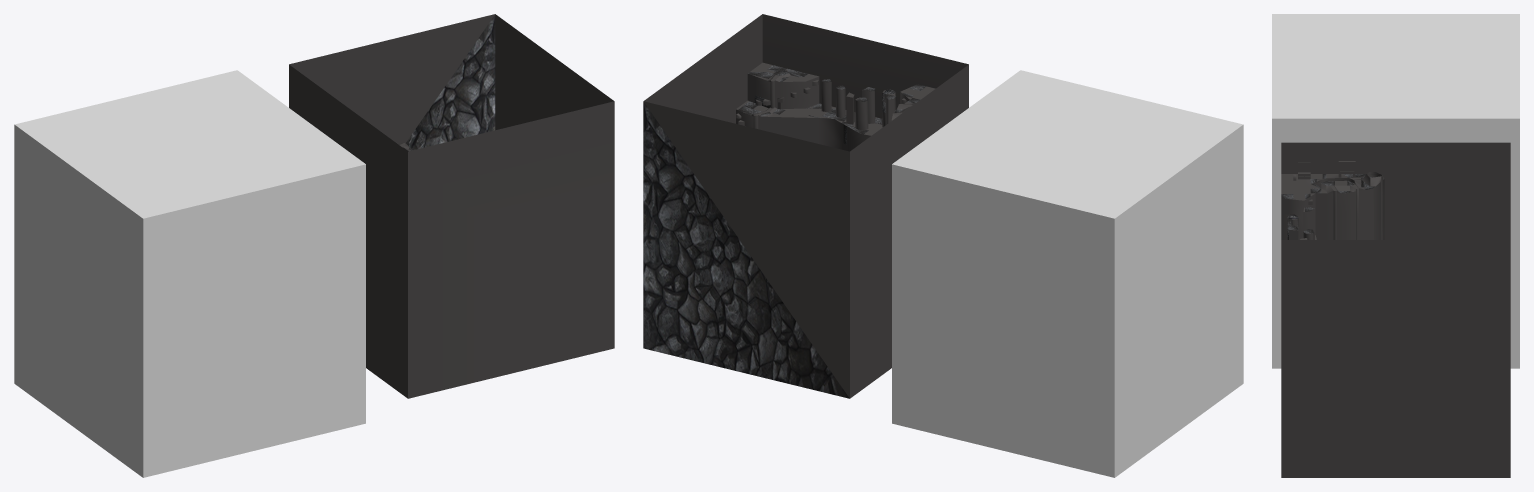
File: TRANSPORTSHIP_REN_AIBOT_TDtest.fbx
3 views of the same model, side by side, from view 1: azimuth 30°, elevation 25°; view 2: azimuth 150°, elevation 25°; view 3: azimuth 270°, elevation 25° (orthographic). The views are drawn at different scales.
Visible parts, largest first — view 1: Sky1100_DemoSkyWorldModel0, PhysicsBSP; view 2: Sky1100_DemoSkyWorldModel0, PhysicsBSP; view 3: PhysicsBSP, Sky1100_DemoSkyWorldModel0.
Part boxes in pixels (x1,y1,x2,y2): Sky1100_DemoSkyWorldModel0: (14,70,365,477); PhysicsBSP: (289,14,614,398); Sky1100_DemoSkyWorldModel0: (892,70,1243,477); PhysicsBSP: (643,14,968,398); PhysicsBSP: (1281,142,1510,477); Sky1100_DemoSkyWorldModel0: (1272,14,1519,368).
Size of the model in its own units: 29520 by 15360 by 13824.
Materials: 1 (1 with a texture image).
